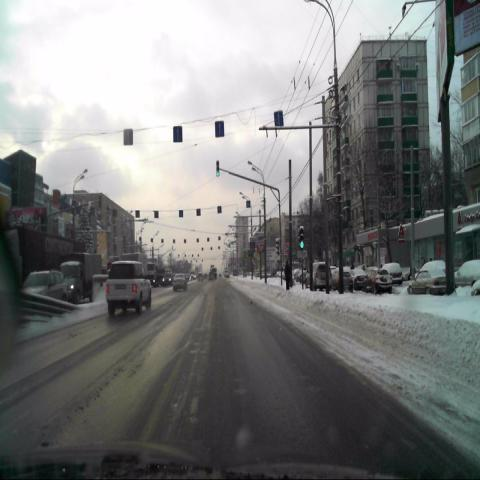5_15_2: (274, 110, 283, 128), (123, 129, 133, 145), (174, 126, 183, 142), (215, 121, 224, 136)
